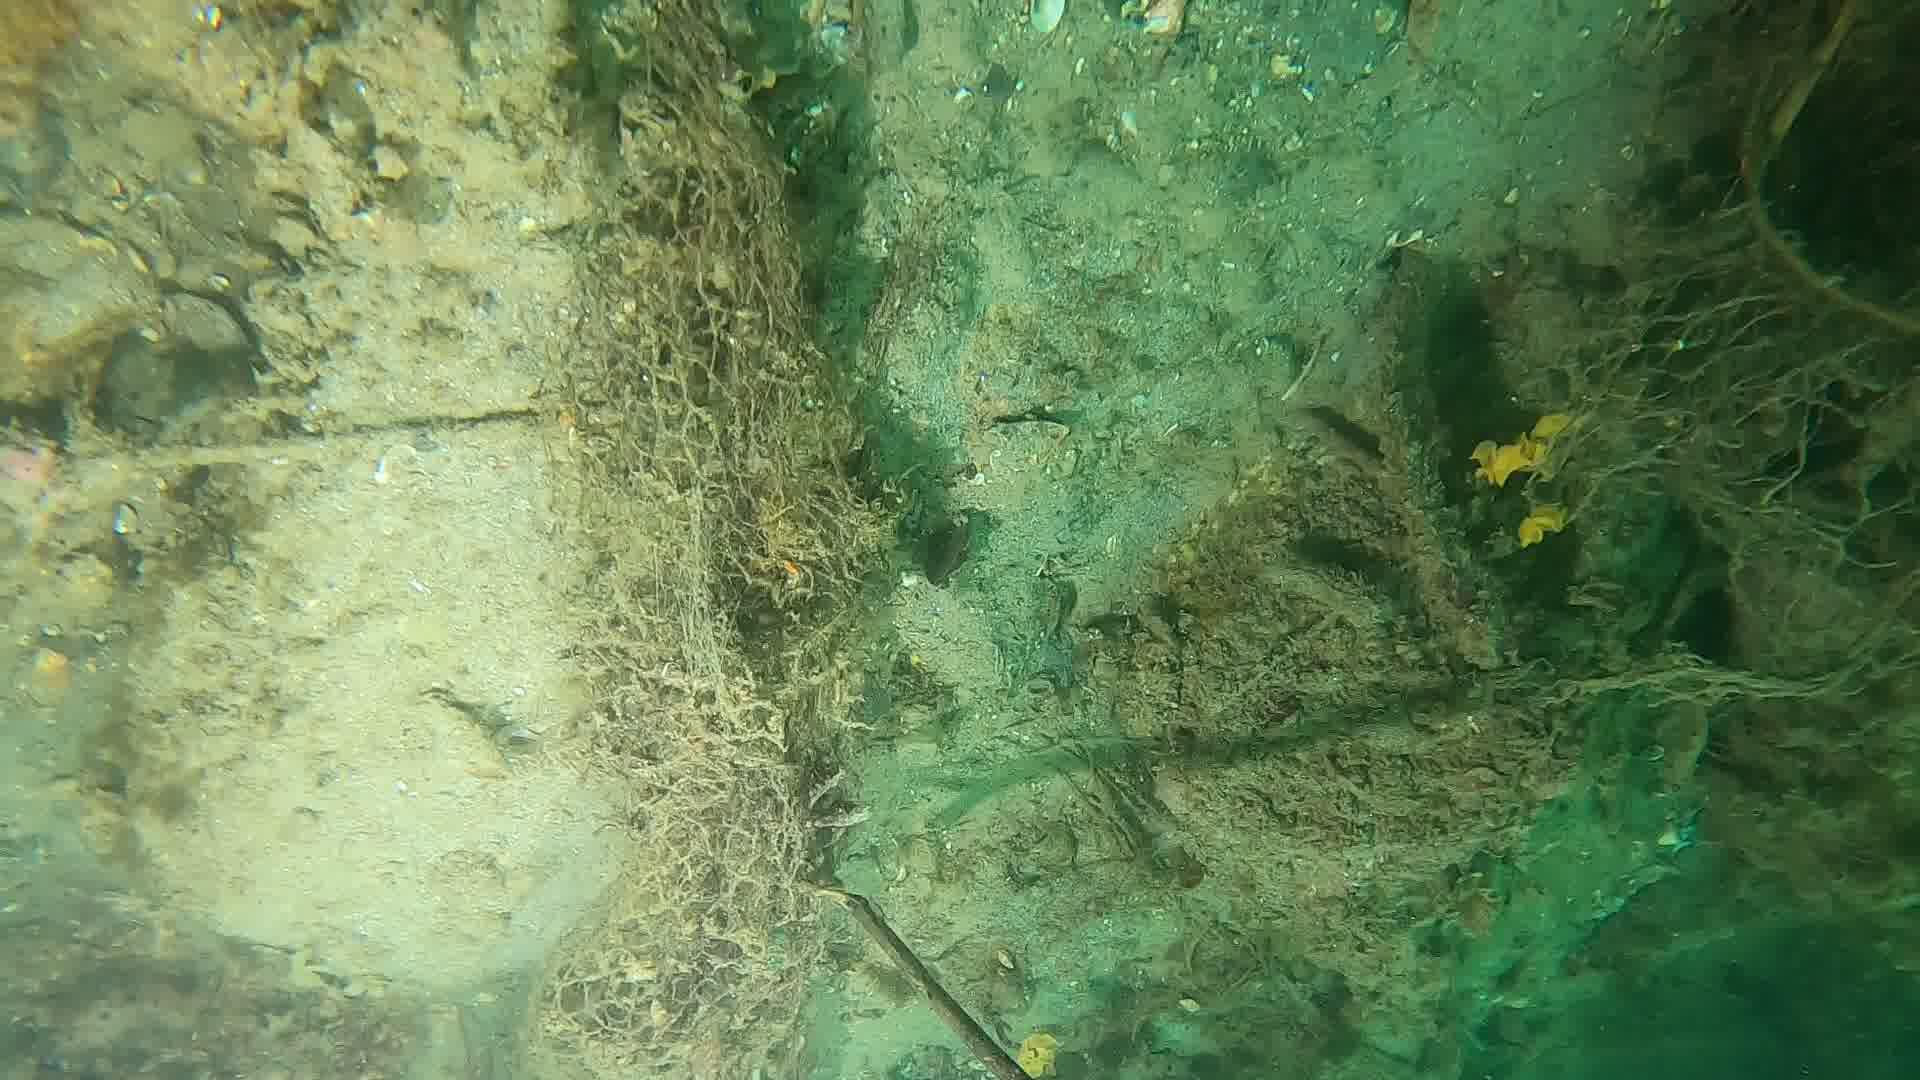fish net: (553, 153, 874, 1080)
